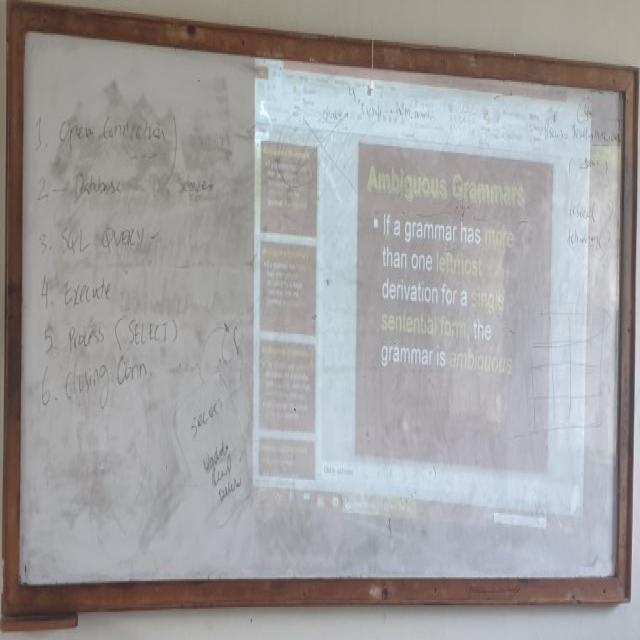Slide: (252, 35, 595, 548)
White-board: (15, 6, 633, 606)
